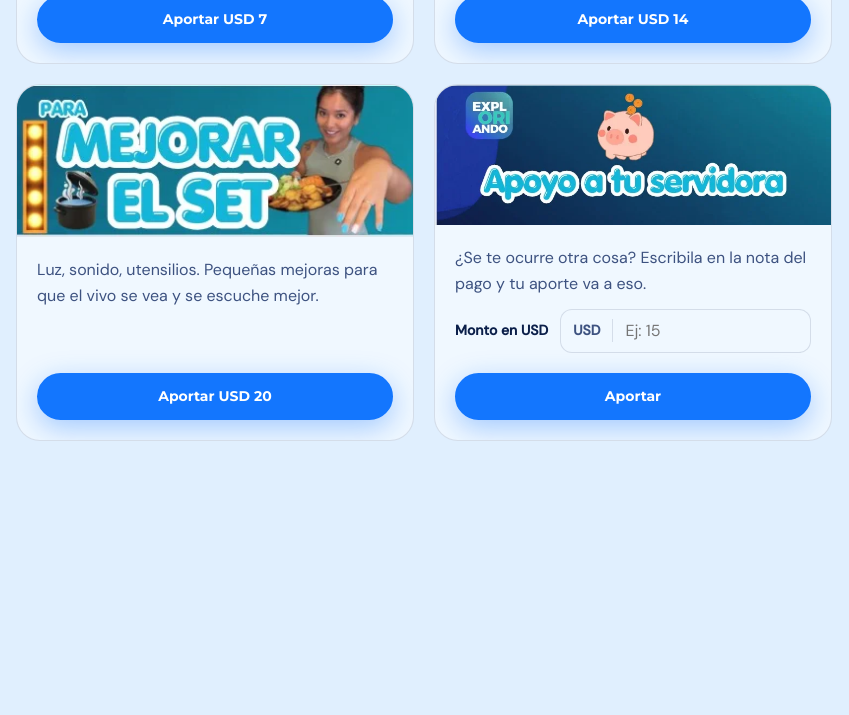
Test case: ApoyoComponent › should build the last link from the typed amount
This screenshot has width=849, height=715.
(page scrolled)
Step 1. Type "15" into the number field with id "apoyo-monto" → (712, 331), box [613,310,810,352]
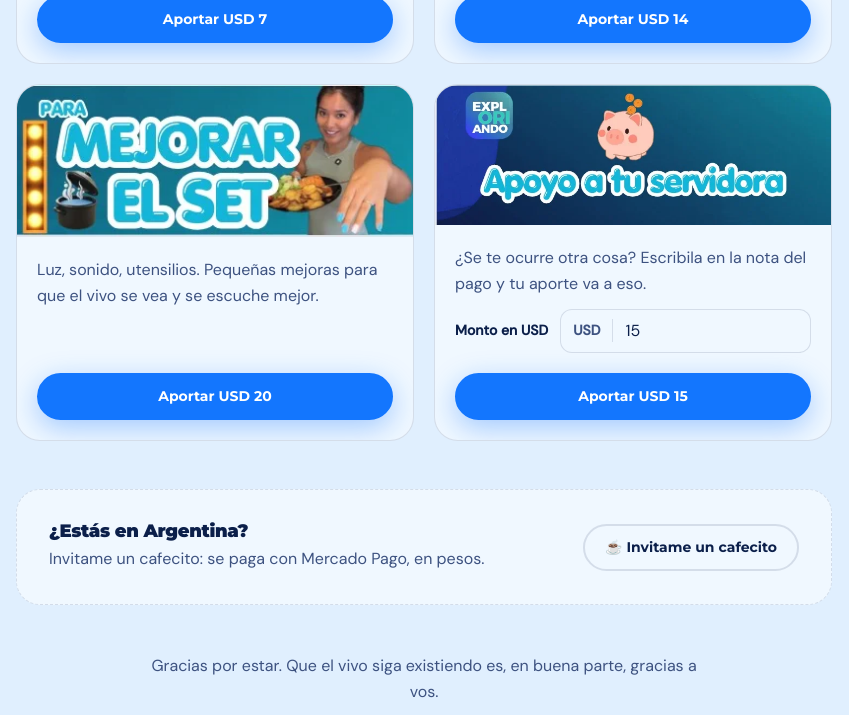
Expected: the link with class "apoyo-card__cta" reads "Aportar USD 15", [455,373,811,420]
